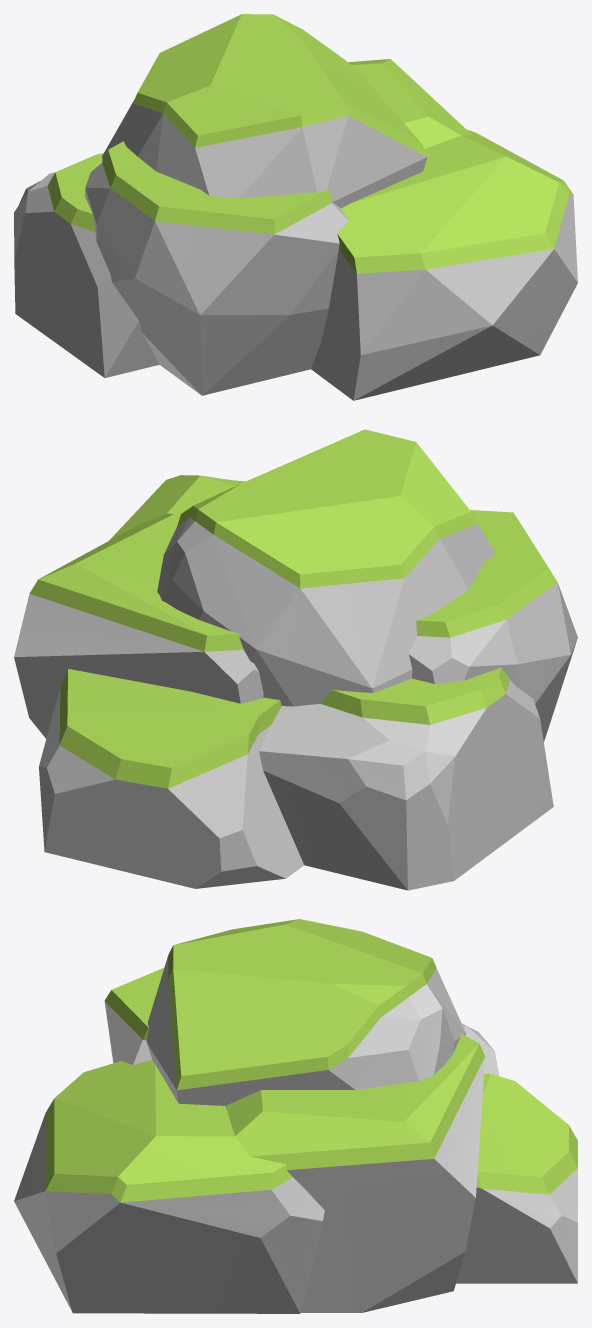
The model's file is dm11.rock.sm.v2.01.glb.
3 views of the same model, one above another, from view 1: azimuth 30°, elevation 25°; view 2: azimuth 150°, elevation 25°; view 3: azimuth 270°, elevation 25° (orthographic). The views are drawn at different scales.
Parts seen in each view (by area): view 1: PP_Rock_Moss_Grown_11.001_PP_Standard_Material_0; view 2: PP_Rock_Moss_Grown_11.001_PP_Standard_Material_0; view 3: PP_Rock_Moss_Grown_11.001_PP_Standard_Material_0.
Boxes of the visible parts, left/top/right/bottom form: PP_Rock_Moss_Grown_11.001_PP_Standard_Material_0: left=14, top=14, right=577, bottom=400; PP_Rock_Moss_Grown_11.001_PP_Standard_Material_0: left=14, top=429, right=577, bottom=890; PP_Rock_Moss_Grown_11.001_PP_Standard_Material_0: left=14, top=919, right=577, bottom=1313.
Size of the model in its own units: 4.08 by 2.43 by 4.6.
Materials: 1 (1 with a texture image).
